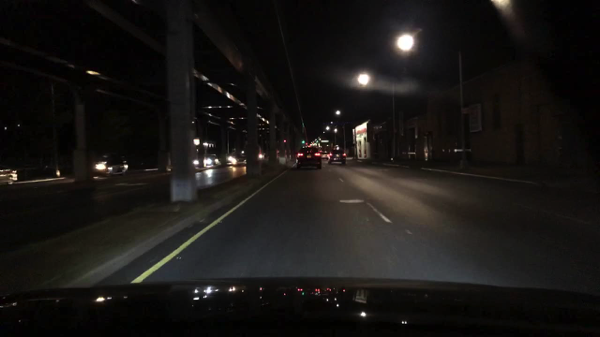car: (93, 153, 129, 176), (297, 145, 322, 171), (0, 167, 18, 190), (330, 152, 346, 167), (205, 154, 218, 166), (226, 153, 235, 164), (319, 153, 329, 158), (195, 155, 199, 167)
traffic sign: (319, 140, 329, 143)
